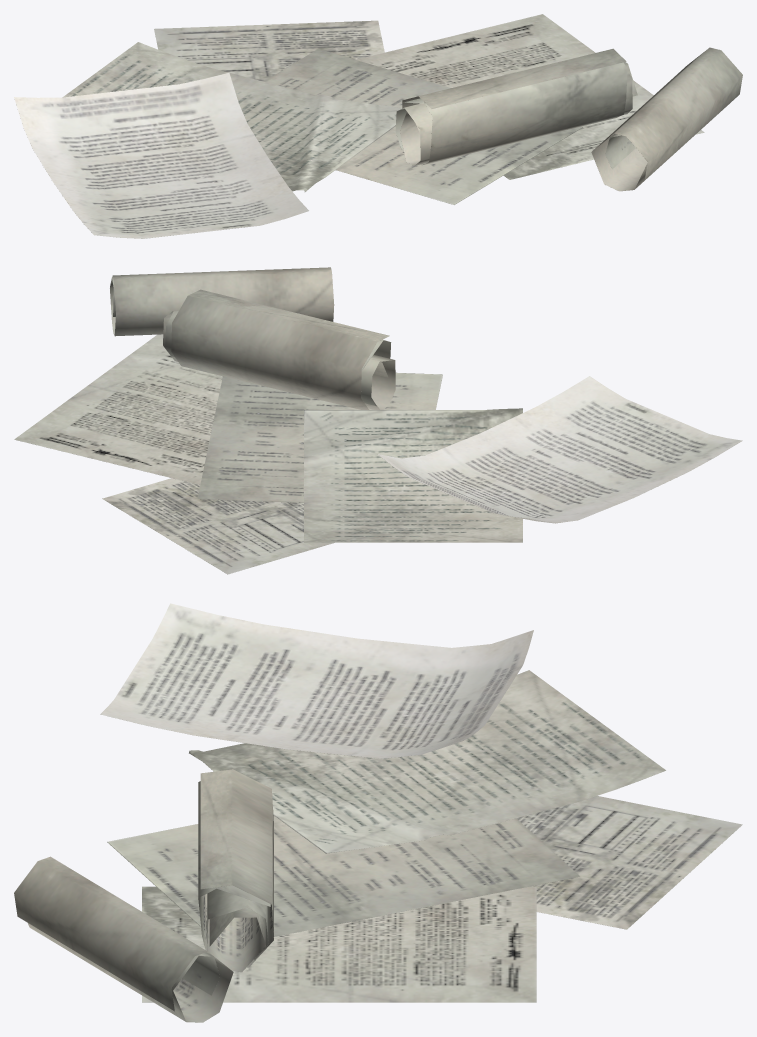
File: Bunch_of_Papers_B.obj
The picture shows the model from 3 angles, top to bottom: view 1: azimuth 30°, elevation 25°; view 2: azimuth 150°, elevation 25°; view 3: azimuth 270°, elevation 25°; orthographic projection. The views are drawn at different scales.
Visible parts, largest first — view 1: Bunch_of_Papers_B; view 2: Bunch_of_Papers_B; view 3: Bunch_of_Papers_B.
Boxes of the visible parts, x1,y1,x2,y2 form: Bunch_of_Papers_B: (14,14,742,238); Bunch_of_Papers_B: (14,267,742,574); Bunch_of_Papers_B: (14,603,742,1022).
Size of the model in its own units: 41.16 by 4.38 by 32.81.
